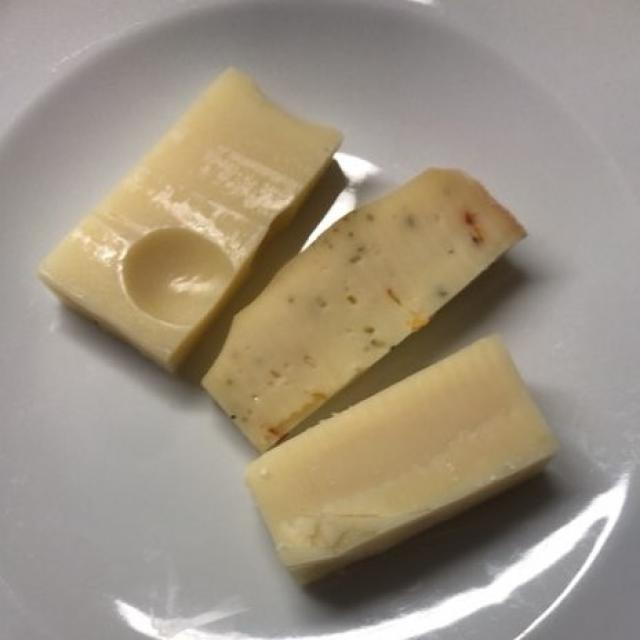cheese: (57, 75, 554, 570)
